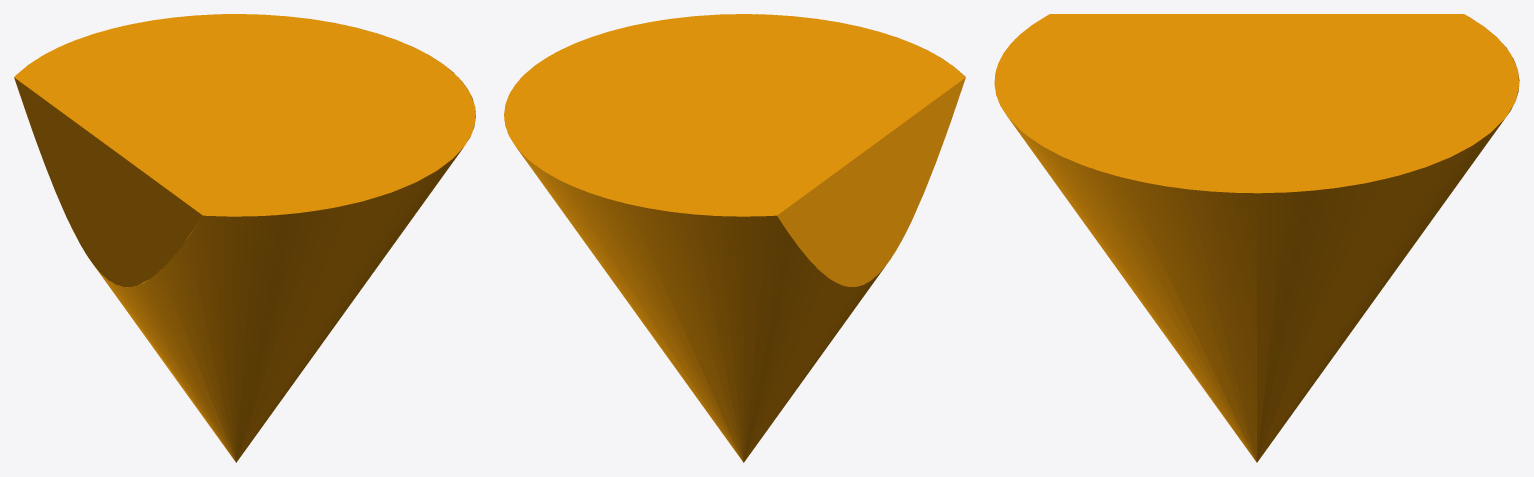
The model's file is yuanzhuijieduanti4.FBX.
3 renders of one model, left to right at view 1: azimuth 30°, elevation 25°; view 2: azimuth 150°, elevation 25°; view 3: azimuth 270°, elevation 25°, orthographic. The views are drawn at different scales.
Parts seen in each view (by area): view 1: TRM_SRF (×4); view 2: TRM_SRF (×4); view 3: TRM_SRF (×3).
Boxes of the visible parts, x1=… form: TRM_SRF (×4): x1=14, y1=14, x2=475, y2=462; TRM_SRF (×4): x1=504, y1=14, x2=965, y2=462; TRM_SRF (×3): x1=994, y1=14, x2=1519, y2=462.
Size of the model in its own units: 31.79 by 31.5 by 39.37.
